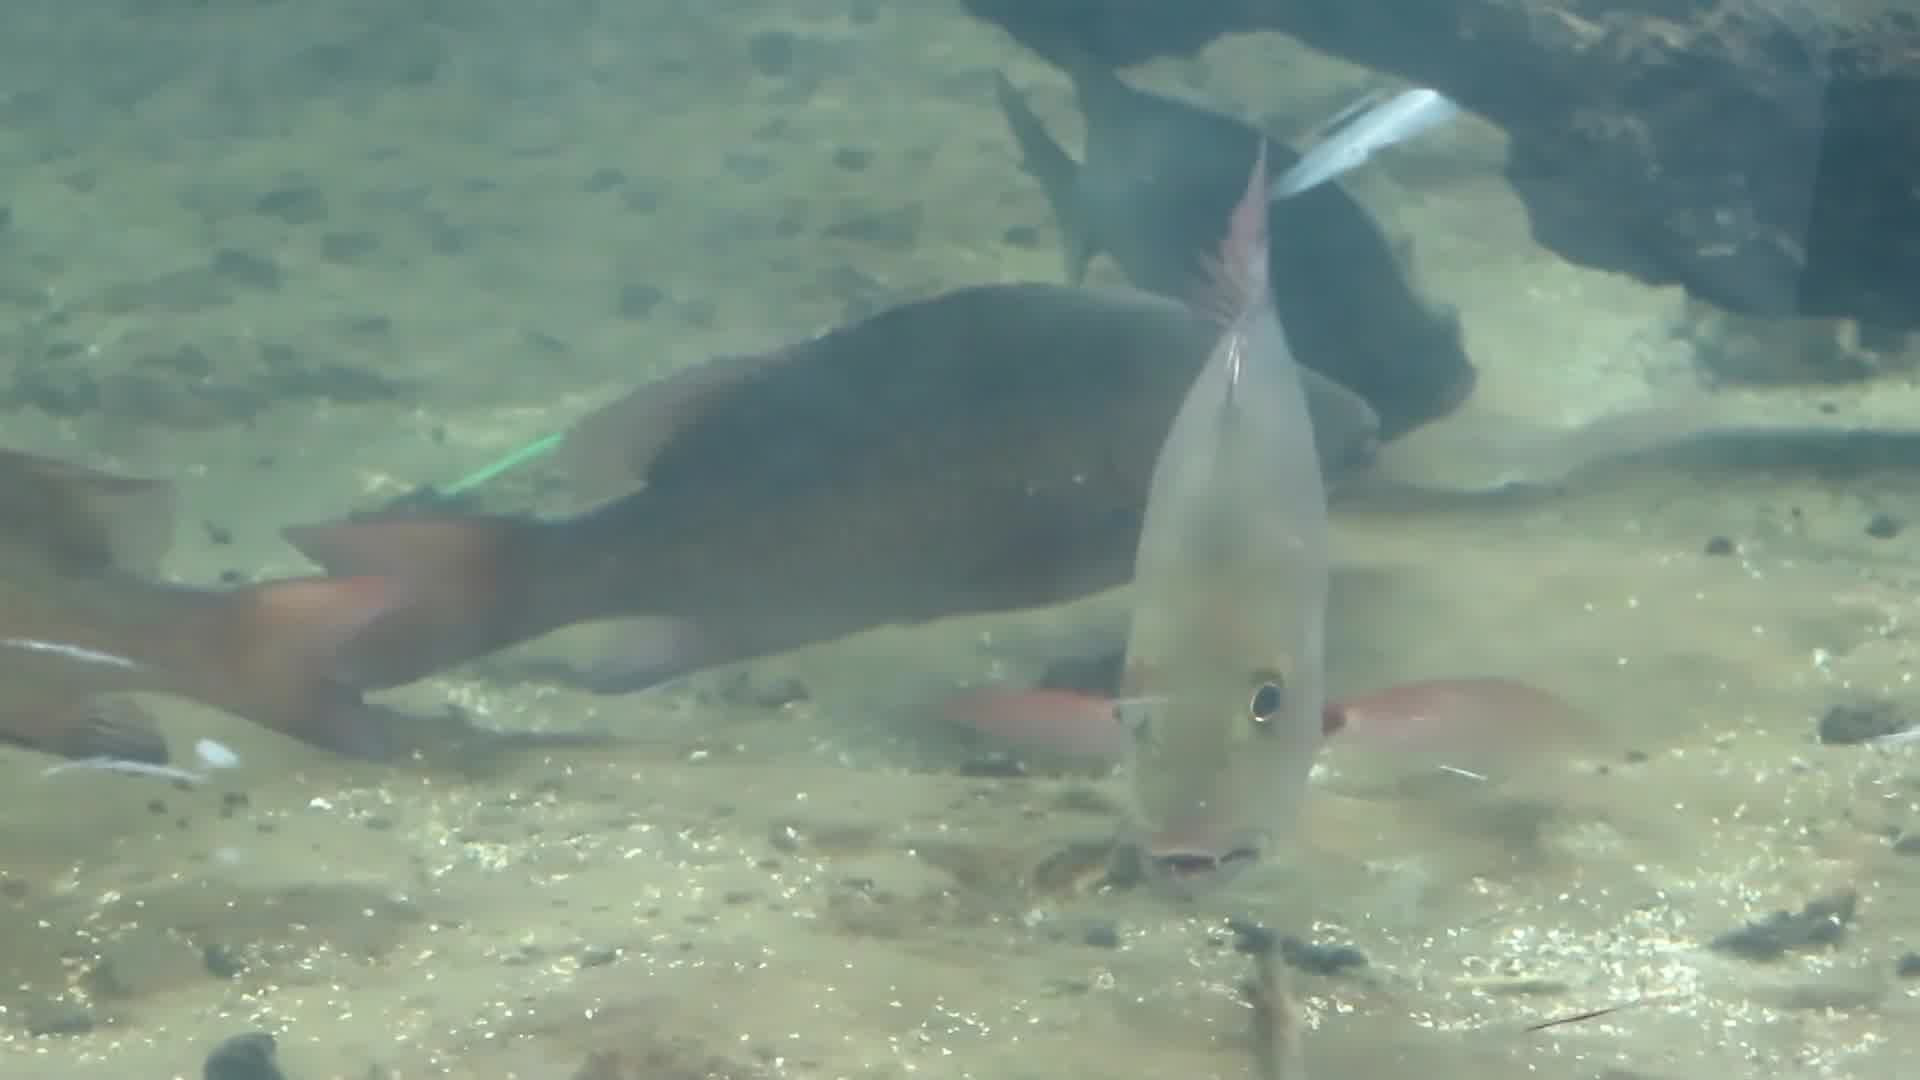Lutjanus argentimaculatus: (497, 262, 1389, 640), (1130, 207, 1321, 884)
